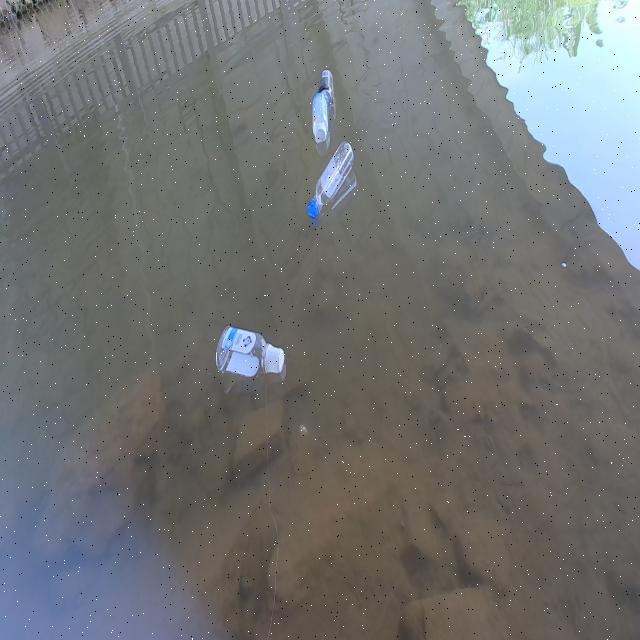Bottle: (213, 321, 286, 378), (306, 142, 355, 220), (308, 91, 331, 144)
Can: (315, 66, 337, 96)
